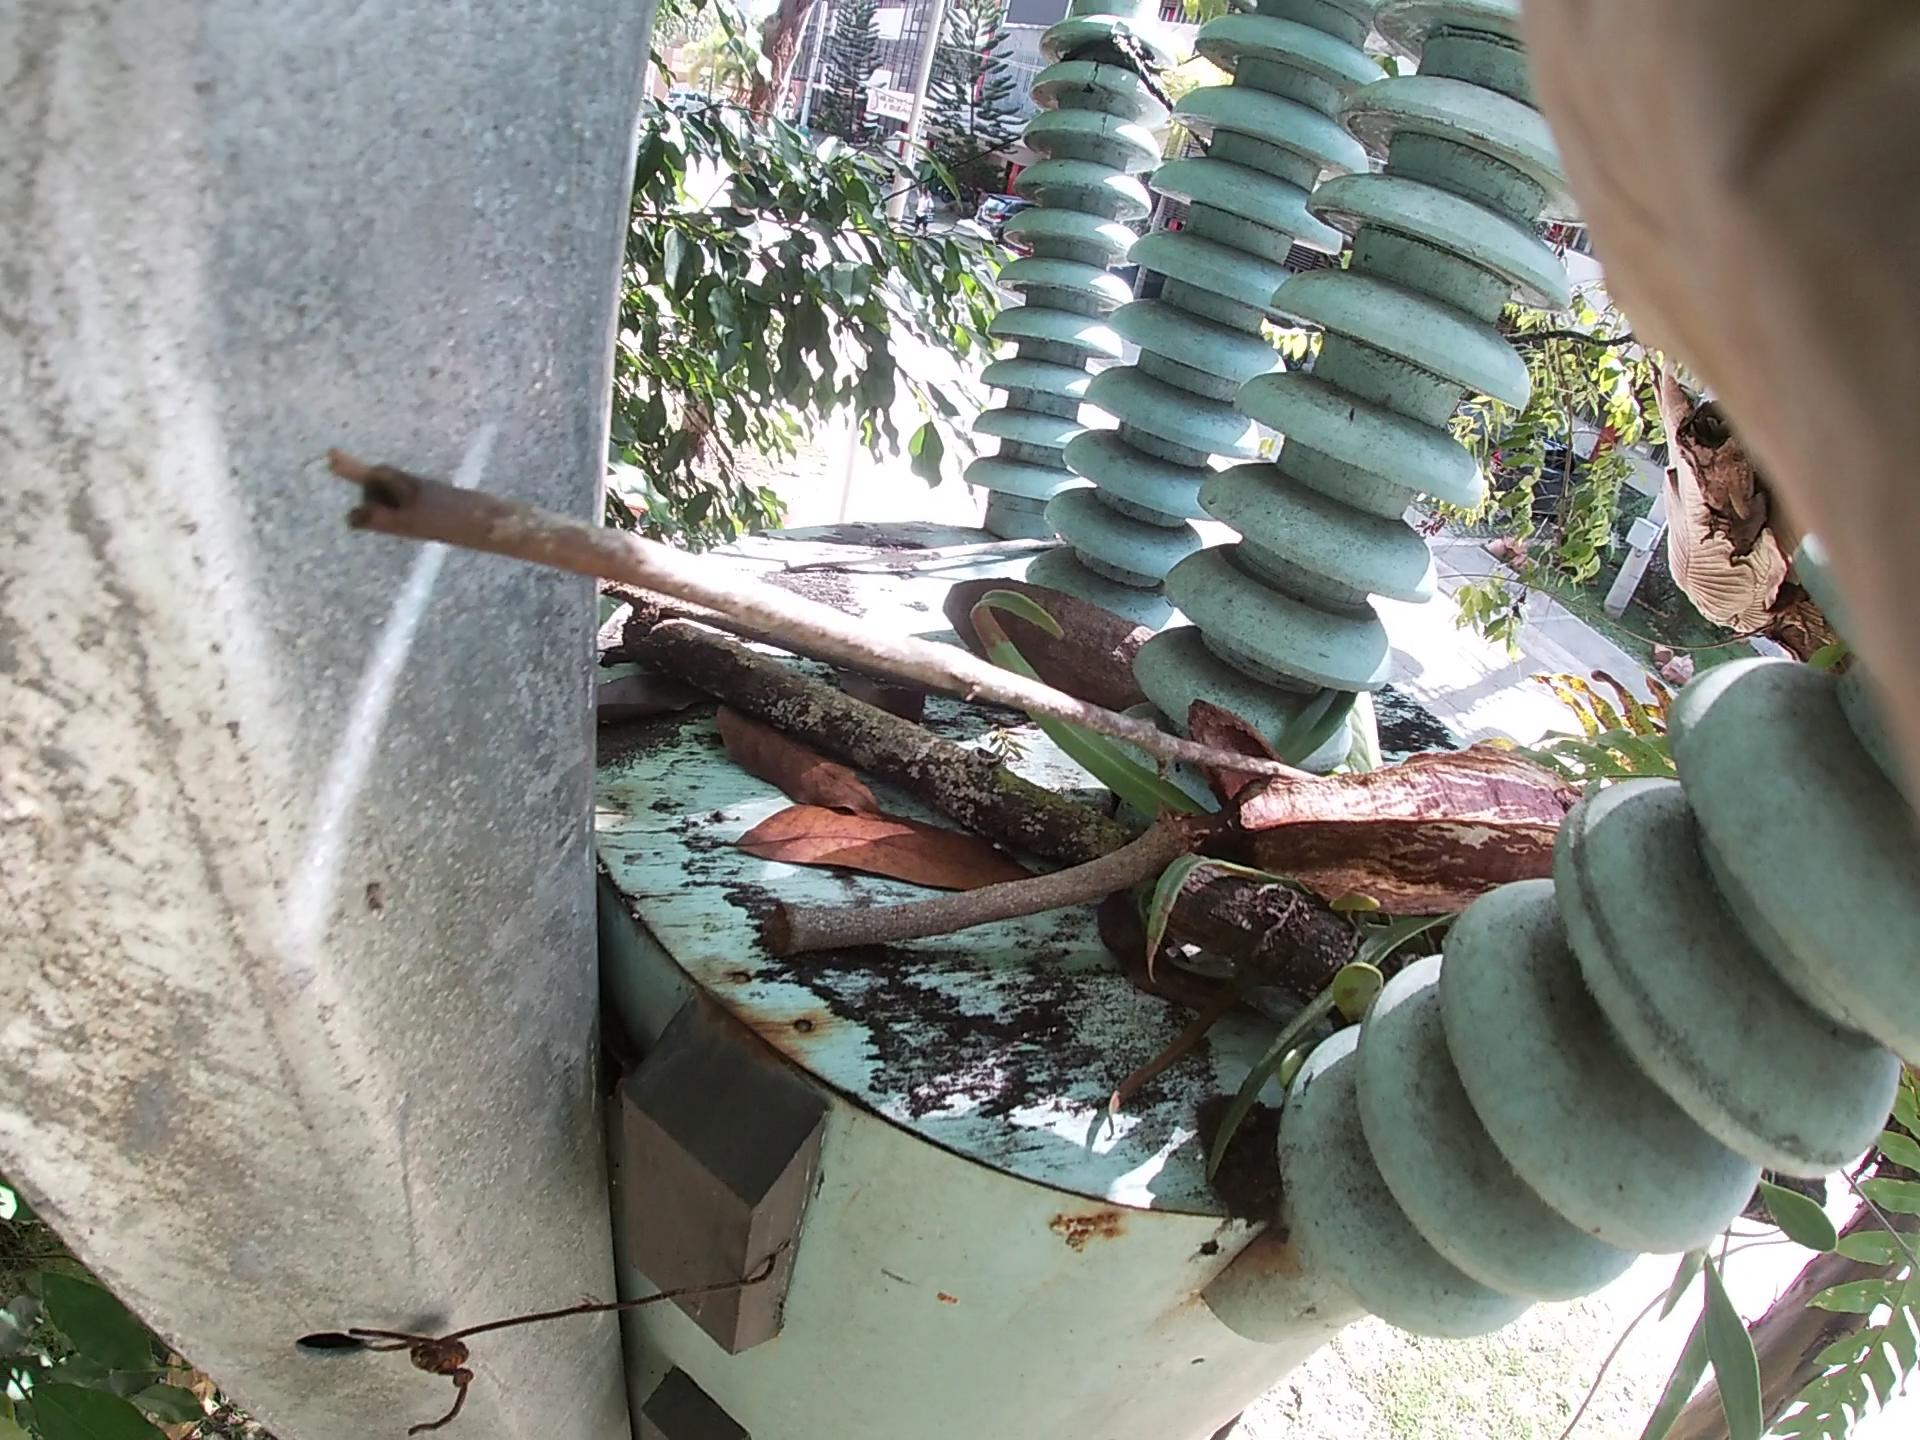branch with leaves: (683, 602, 1448, 1053)
leaf: (685, 681, 1079, 891), (581, 640, 705, 787)
mahogany fruit: (1172, 734, 1788, 957), (887, 546, 1190, 737), (1185, 663, 1349, 826)
tree branch: (413, 495, 1299, 777), (777, 830, 1217, 948), (813, 529, 1175, 555)
